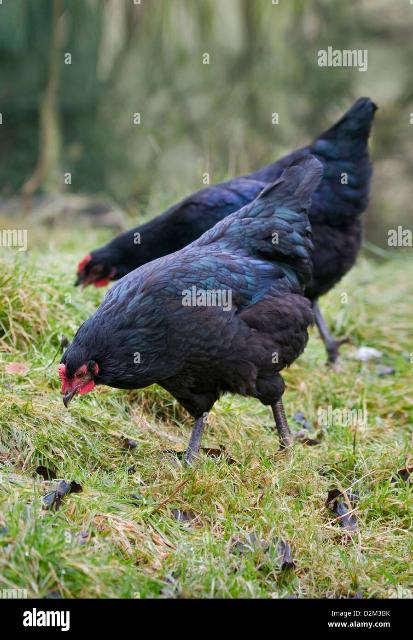Chicken: (72, 98, 378, 367), (57, 152, 325, 455)
